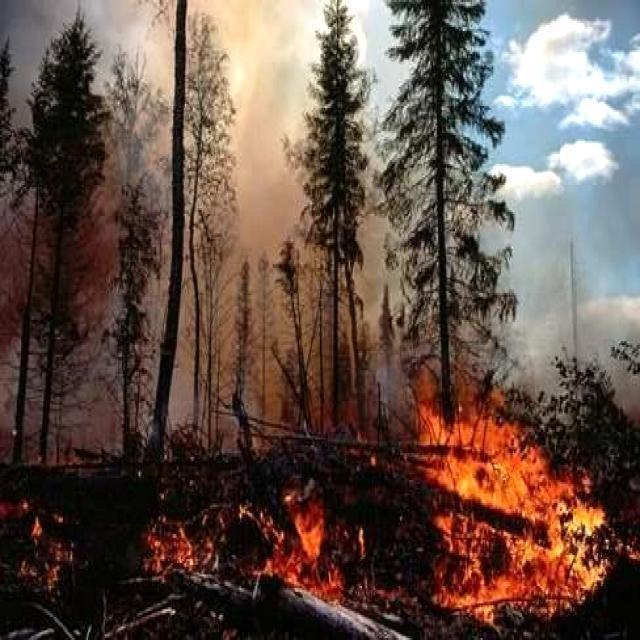Fire: (398, 372, 618, 628), (245, 466, 362, 618)
Smoke: (61, 6, 418, 467)
